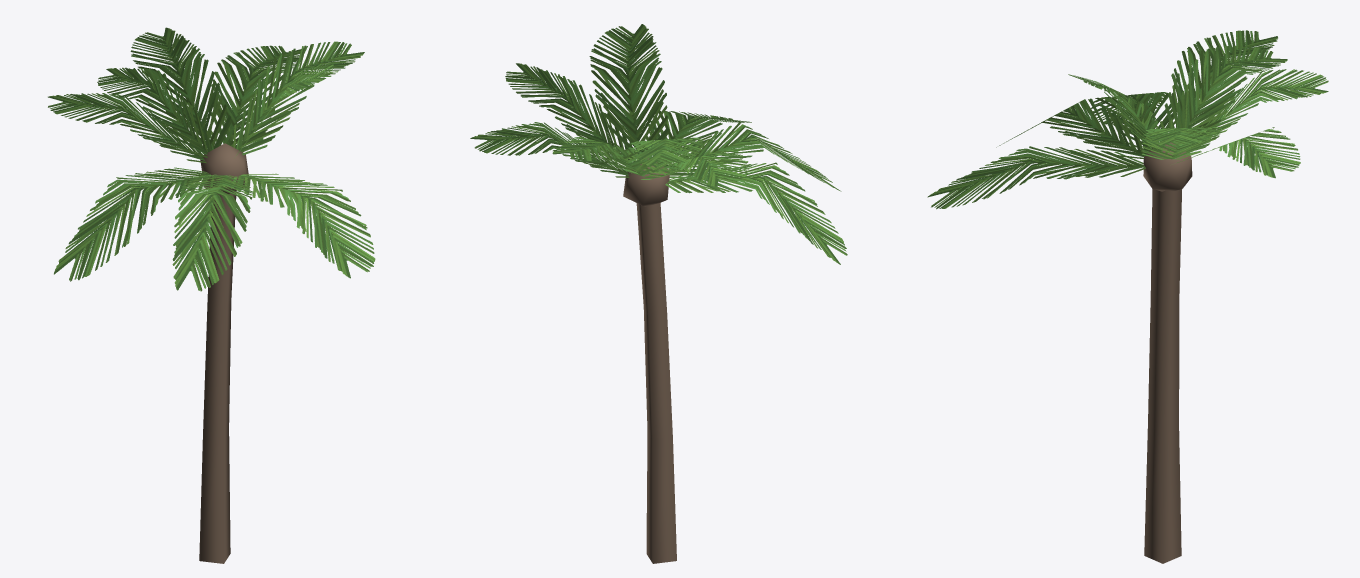
The model's file is PHOENIX_2.glb.
The picture shows the model from 3 angles, left to right: view 1: azimuth 30°, elevation 25°; view 2: azimuth 150°, elevation 25°; view 3: azimuth 270°, elevation 25°; orthographic projection. The views are drawn at different scales.
Parts seen in each view (by area): view 1: Arv_PHOENIX_lod2; view 2: Arv_PHOENIX_lod2; view 3: Arv_PHOENIX_lod2.
Boxes of the visible parts, <box> form: Arv_PHOENIX_lod2: <box>48,27,375,563</box>; Arv_PHOENIX_lod2: <box>470,24,847,563</box>; Arv_PHOENIX_lod2: <box>927,30,1328,563</box>.
Bounding box in the file's own units: 7.02 × 9.17 × 7.05.
Materials: 2 (1 with a texture image).
